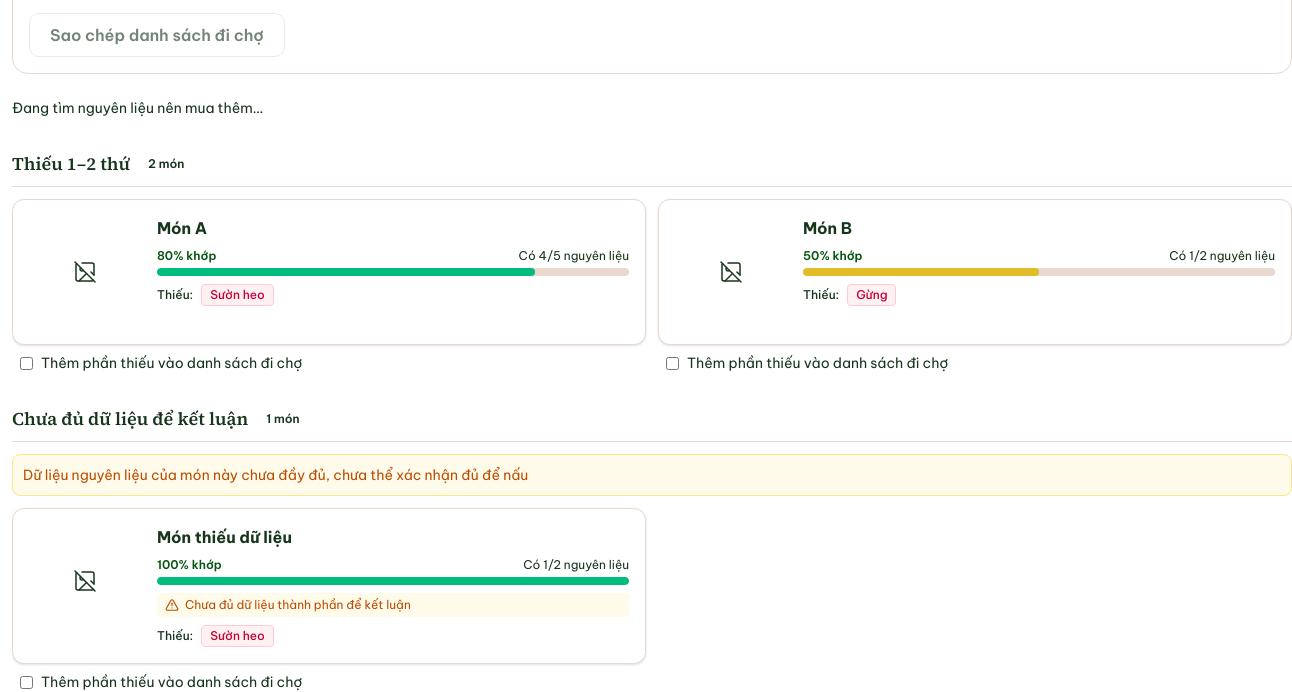
Test: FE11 in the real FE09 tab › copies only selected dishes, removes duplicates and warns for incomplete data
The width and height of the screenshot is (1292, 692).
(page scrolled)
Expected: the button "Sao chép danh sách đi chợ" is disabled, [29,13,285,57]
Click the checkbox named "Thêm nguyên liệu thiếu của Món A vào danh sách đi chợ" at coordinates (26, 363), box [20,356,33,370]
(page scrolled)
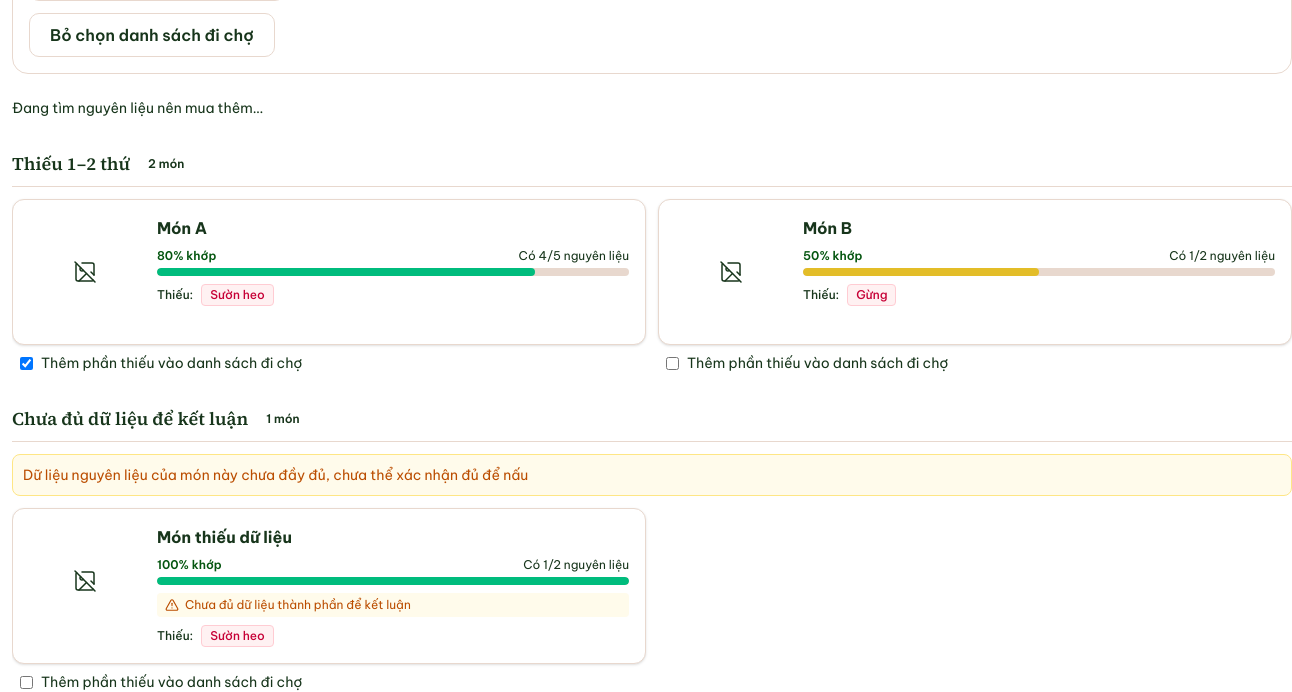
Click the checkbox named "Thêm nguyên liệu thiếu của Món thiếu dữ liệu vào danh sách đi chợ" at coordinates (26, 682), box [20,676,33,688]
(page scrolled)
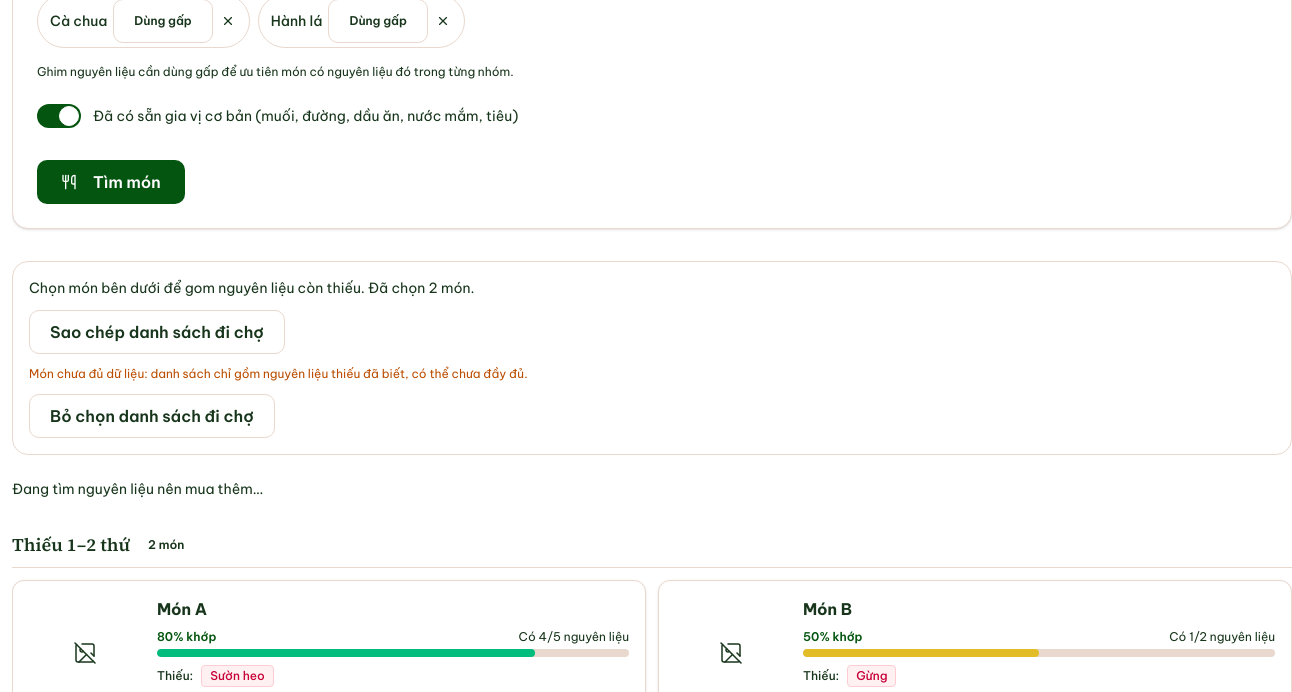
Click the button "Sao chép danh sách đi chợ" at coordinates (157, 332), box [29,310,285,354]
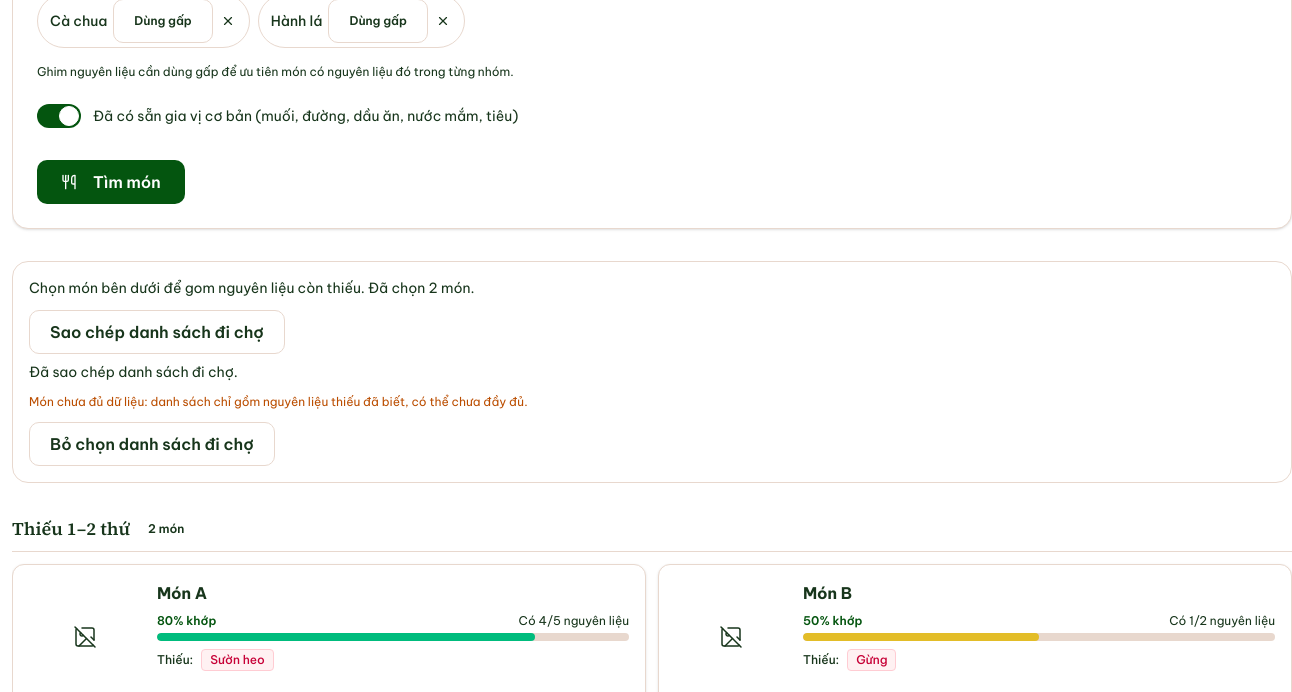
Expected: the element named "Danh sách đi chợ" does not show "Gừng", [12,261,1291,483]
Expected: the text "danh sách chỉ gồm nguyên liệu thiếu đã biết" is shown, [29,394,528,409]
Expected: the text "Đã sao chép danh sách đi chợ." is shown, [29,363,238,381]
